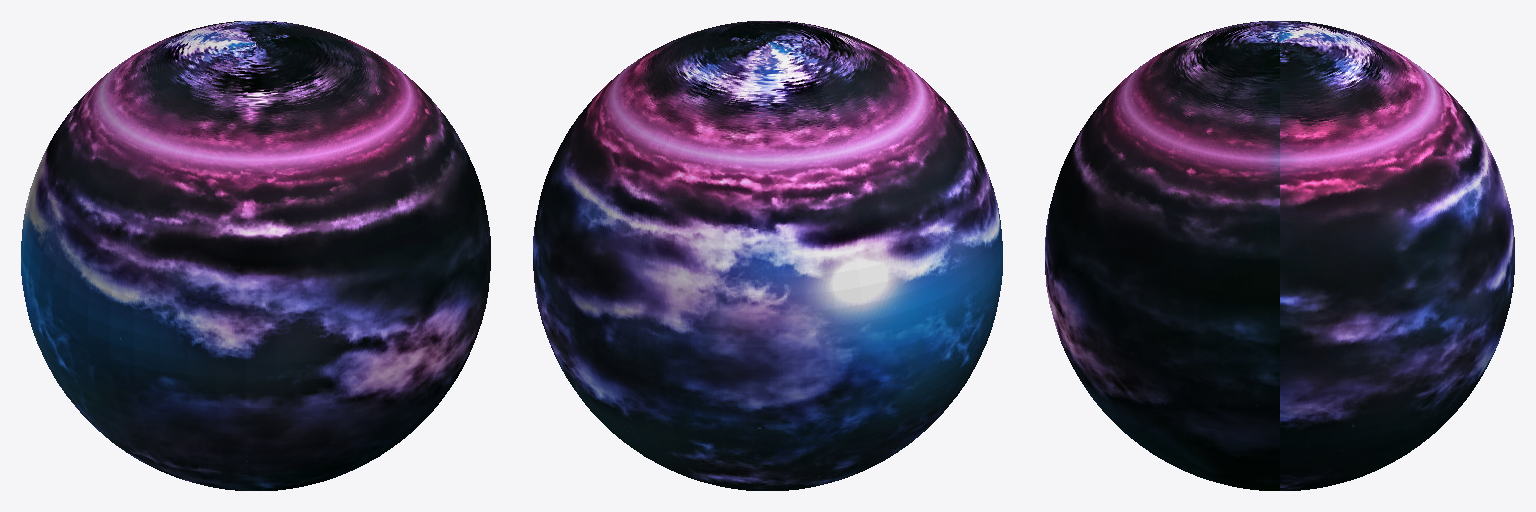
3 renders of one model, left to right at view 1: azimuth 30°, elevation 25°; view 2: azimuth 150°, elevation 25°; view 3: azimuth 270°, elevation 25°, orthographic.
Visible parts, largest first — view 1: Fairytale_Garden_Background_0; view 2: Fairytale_Garden_Background_0; view 3: Fairytale_Garden_Background_0.
Part boxes in pixels (x1,y1,x2,y2): Fairytale_Garden_Background_0: (21,21,490,490); Fairytale_Garden_Background_0: (533,21,1002,490); Fairytale_Garden_Background_0: (1045,21,1514,490).
Size of the model in its own units: 496 by 496 by 495.
Materials: 1 (1 with a texture image).